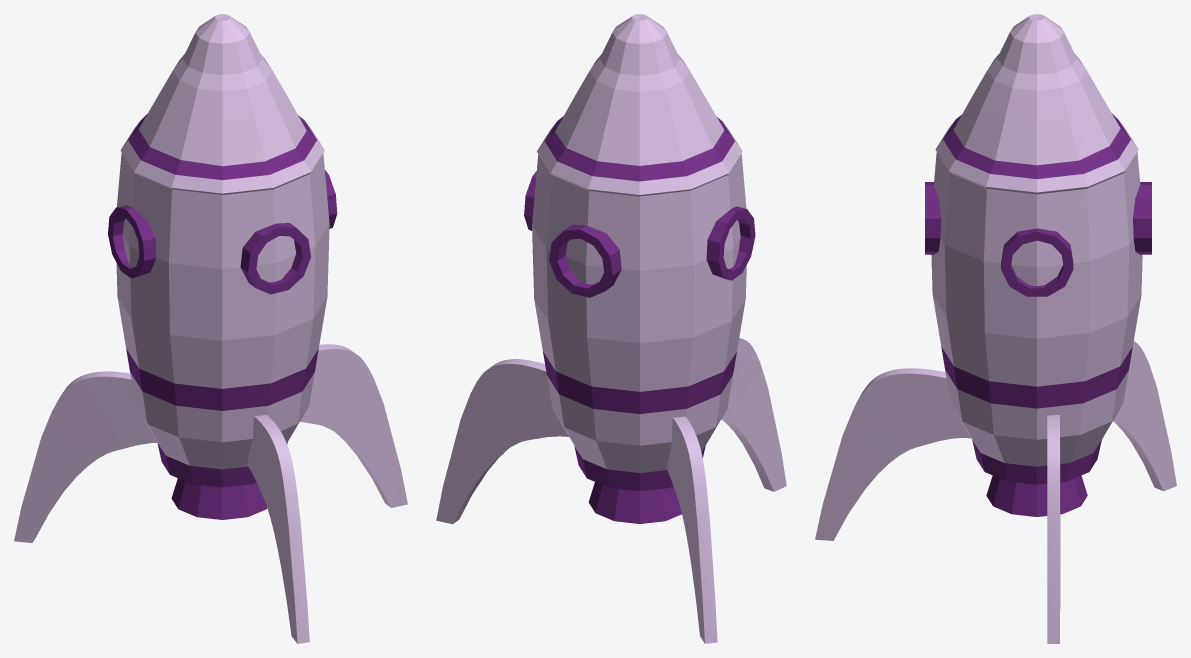
File: shuttle.gltf
The picture shows the model from 3 angles, left to right: view 1: azimuth 30°, elevation 25°; view 2: azimuth 150°, elevation 25°; view 3: azimuth 270°, elevation 25°; orthographic projection.
Parts seen in each view (by area): view 1: body-Mat (×3), top-Mat, Sweep.2, body-Mat.2 (×3), Sweep.1, Sweep.3, Tube (×2), top-Mat.2; view 2: body-Mat (×3), top-Mat, Sweep.1, body-Mat.2 (×3), Sweep.2, Sweep.3, Tube (×2), top-Mat.2; view 3: body-Mat (×3), top-Mat, Sweep.3, body-Mat.2 (×3), Tube (×3), Sweep.2, top-Mat.2, Sweep.1.
Part boxes in pixels (left/top/right/bottom): body-Mat (×3): left=116, top=153, right=329, bottom=469; top-Mat: left=120, top=14, right=324, bottom=194; Sweep.2: left=14, top=371, right=157, bottom=542; body-Mat.2 (×3): left=126, top=349, right=318, bottom=519; Sweep.1: left=300, top=344, right=407, bottom=507; Sweep.3: left=246, top=415, right=309, bottom=643; Tube (×2): left=108, top=205, right=310, bottom=294; top-Mat.2: left=128, top=114, right=316, bottom=180; body-Mat (×3): left=532, top=154, right=746, bottom=472; top-Mat: left=537, top=14, right=742, bottom=196; Sweep.1: left=436, top=359, right=568, bottom=524; body-Mat.2 (×3): left=543, top=351, right=736, bottom=523; Sweep.2: left=666, top=416, right=717, bottom=643; Sweep.3: left=721, top=338, right=786, bottom=491; Tube (×2): left=549, top=206, right=755, bottom=297; top-Mat.2: left=544, top=116, right=734, bottom=181; body-Mat (×3): left=931, top=152, right=1142, bottom=466; top-Mat: left=935, top=14, right=1138, bottom=194; Sweep.3: left=815, top=368, right=971, bottom=540; body-Mat.2 (×3): left=941, top=347, right=1132, bottom=516; Tube (×3): left=925, top=182, right=1151, bottom=296; Sweep.2: left=1113, top=341, right=1176, bottom=491; top-Mat.2: left=943, top=113, right=1130, bottom=178; Sweep.1: left=1047, top=414, right=1060, bottom=643.
Size of what is drawn, in the model's own units: 1.57 by 2.42 by 1.48.
